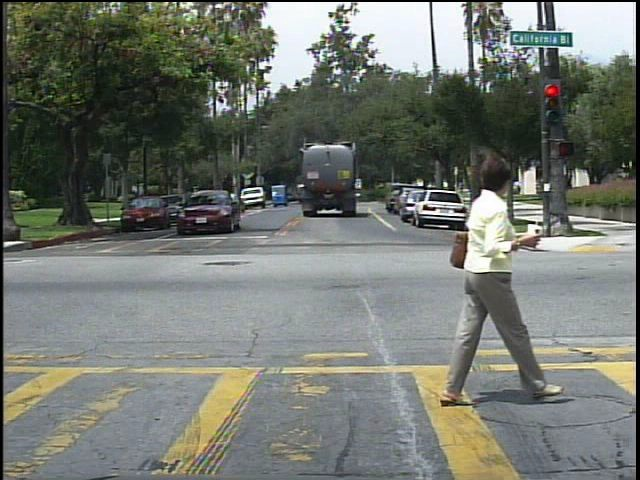person: (430, 139, 550, 411), (513, 180, 526, 199)
